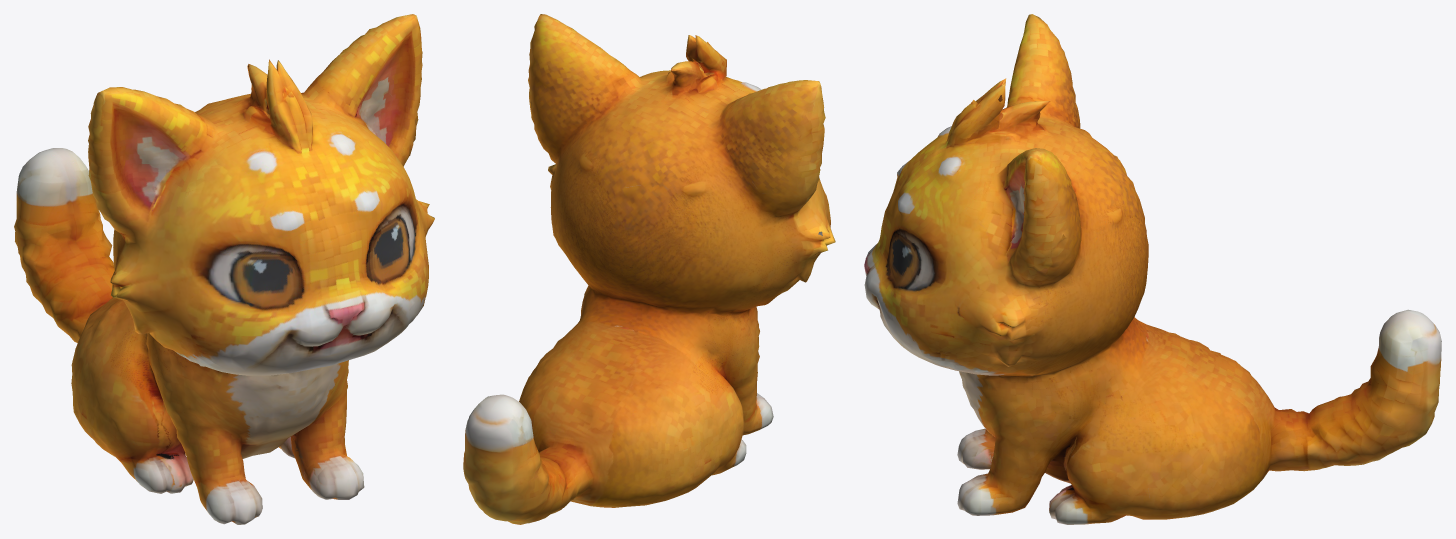
File: cat.glb
3 views of the same model, side by side, from view 1: azimuth 30°, elevation 25°; view 2: azimuth 150°, elevation 25°; view 3: azimuth 270°, elevation 25° (orthographic). The views are drawn at different scales.
Size of the model in its own units: 1.22 by 1.55 by 2.
1 material, 1 textured.
